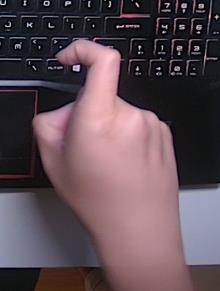anticlockwise: (30, 38, 180, 242)
